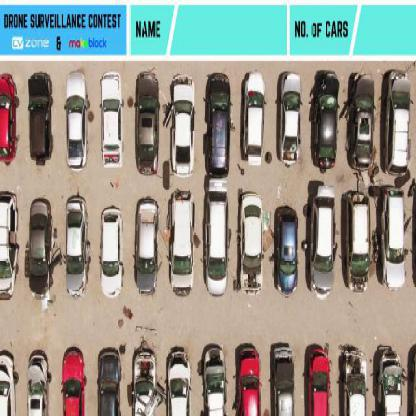car: (238, 189, 266, 295), (346, 66, 375, 168), (309, 72, 339, 170), (310, 185, 336, 298), (204, 76, 230, 175), (135, 73, 159, 177), (173, 74, 197, 178), (171, 191, 194, 297), (66, 197, 90, 295), (373, 346, 406, 416), (277, 73, 301, 167), (100, 205, 124, 299), (135, 199, 158, 296), (27, 198, 51, 290), (389, 76, 411, 175), (276, 205, 299, 297), (27, 74, 51, 162), (66, 73, 88, 169), (339, 346, 369, 416), (198, 345, 227, 415), (101, 75, 123, 167), (1, 190, 19, 302), (233, 345, 261, 415), (245, 73, 266, 165), (306, 345, 333, 415), (271, 343, 297, 415), (95, 348, 123, 414), (165, 347, 191, 415), (61, 347, 87, 415), (2, 75, 20, 165), (28, 353, 51, 415), (1, 351, 19, 415)
